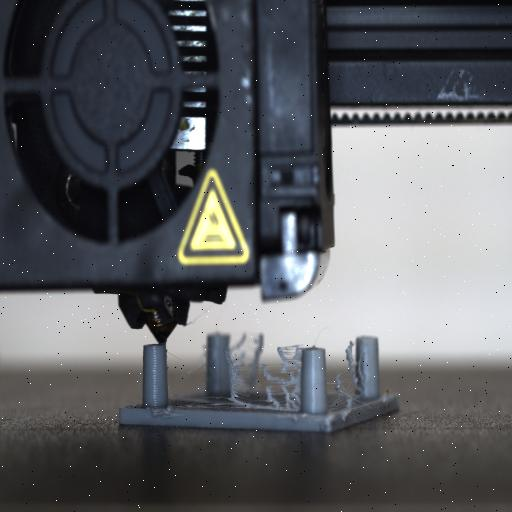stringing: (224, 331, 300, 409)
